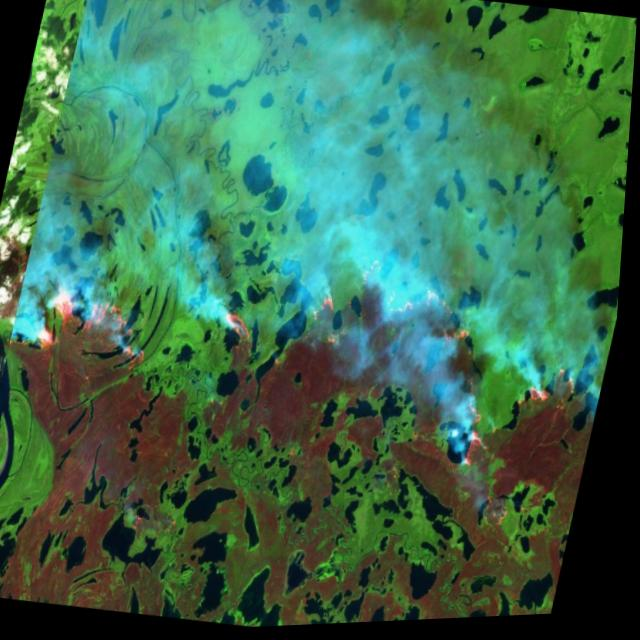fire: (0, 181, 629, 522)
